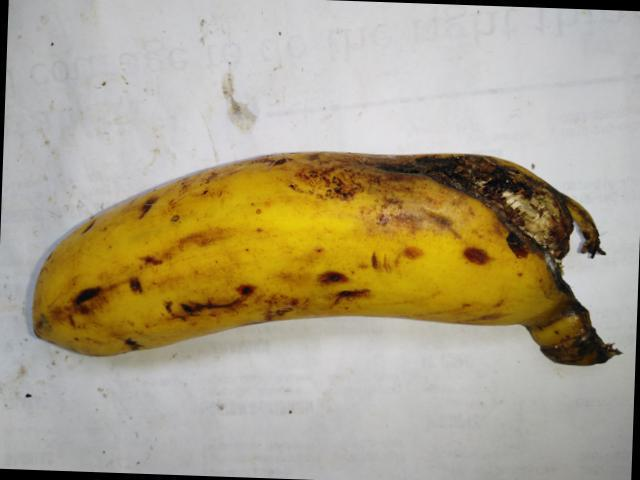ripe: (22, 149, 443, 352)
rotten: (343, 112, 614, 320)
